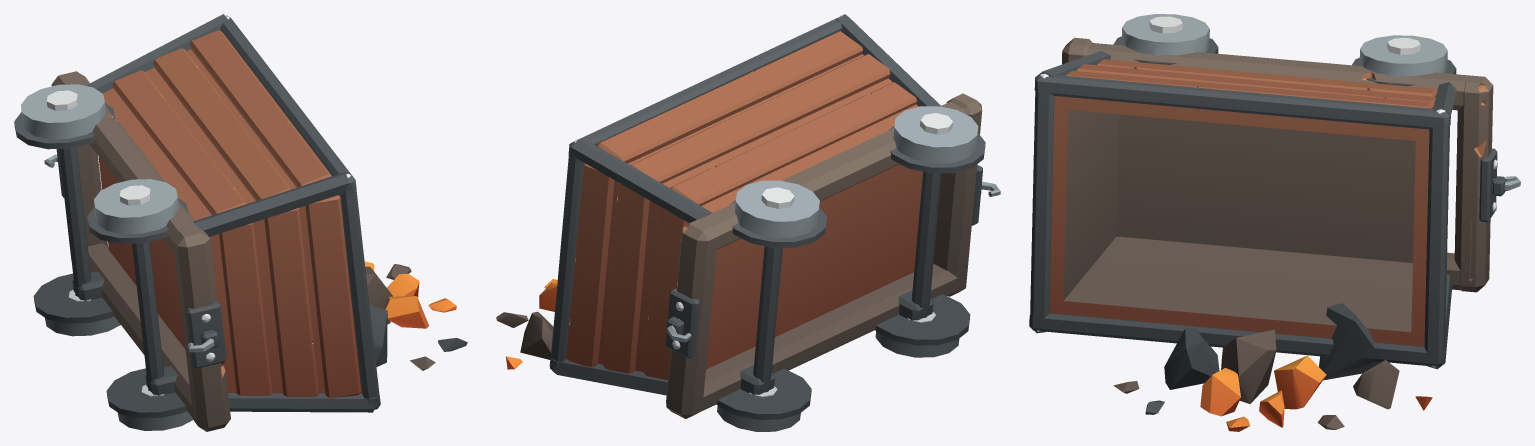
Rendered from mine_cart_tipped.glb.
The picture shows the model from 3 angles, left to right: view 1: azimuth 30°, elevation 25°; view 2: azimuth 150°, elevation 25°; view 3: azimuth 270°, elevation 25°; orthographic projection. The views are drawn at different scales.
Visible parts, largest first — view 1: mine_cart_tipped; view 2: mine_cart_tipped; view 3: mine_cart_tipped.
Boxes of the visible parts, x1,y1,x2,y2 form: mine_cart_tipped: [14, 14, 467, 431]; mine_cart_tipped: [496, 14, 1000, 431]; mine_cart_tipped: [1029, 14, 1520, 431].
Bounding box in the file's own units: 2.1 × 1.32 × 2.18.
Materials: 1 (1 with a texture image).
